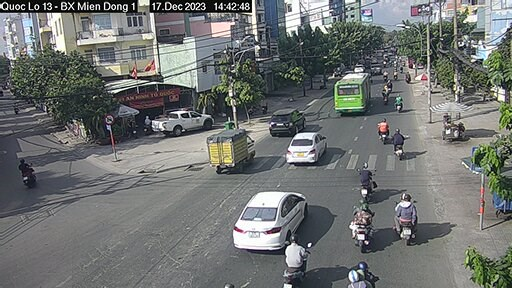bus: (333, 65, 375, 115)
car: (241, 186, 299, 245), (288, 132, 332, 163), (145, 116, 215, 130), (272, 106, 301, 133)
motorbike: (275, 234, 309, 281), (395, 195, 424, 245), (352, 200, 379, 247), (358, 163, 384, 192), (375, 122, 394, 144), (390, 127, 404, 155), (395, 92, 402, 115)
truck: (206, 133, 267, 165)
